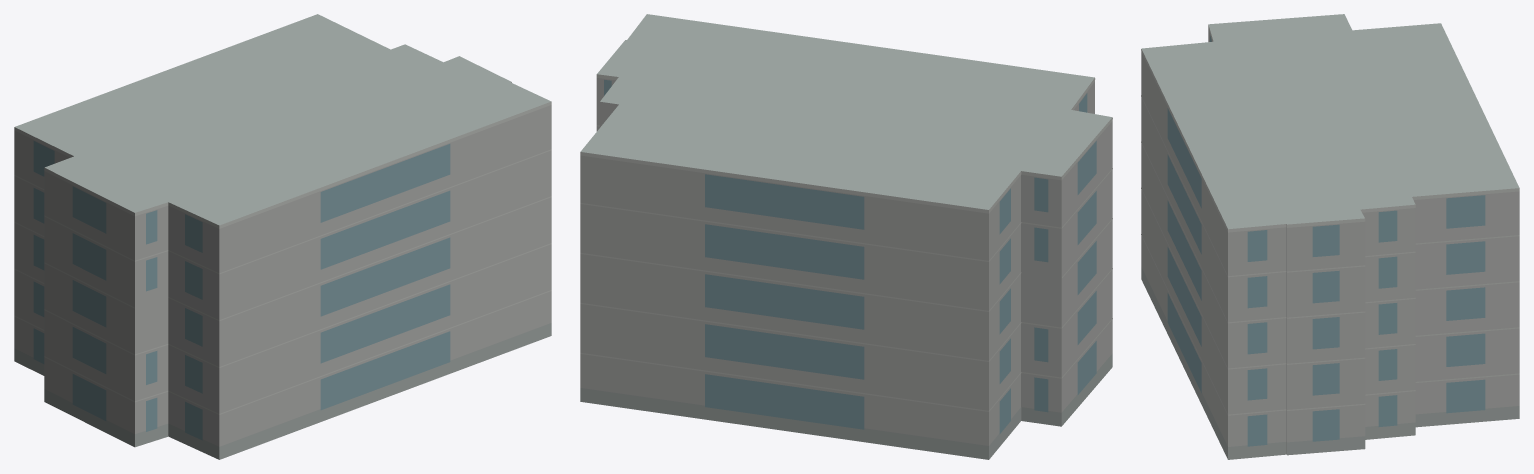
The model's file is survey-upis-33033289.glb.
3 renders of one model, left to right at view 1: azimuth 30°, elevation 25°; view 2: azimuth 150°, elevation 25°; view 3: azimuth 270°, elevation 25°, orthographic. The views are drawn at different scales.
Visible parts, largest first — view 1: survey-upis-33033289.tmp; view 2: survey-upis-33033289.tmp; view 3: survey-upis-33033289.tmp.
Boxes of the visible parts, box(x1,y1,x2,y2) form: survey-upis-33033289.tmp: box(14, 14, 551, 459); survey-upis-33033289.tmp: box(580, 14, 1112, 459); survey-upis-33033289.tmp: box(1141, 14, 1519, 459).
Size of the model in its own units: 33.64 by 16.8 by 24.99.
